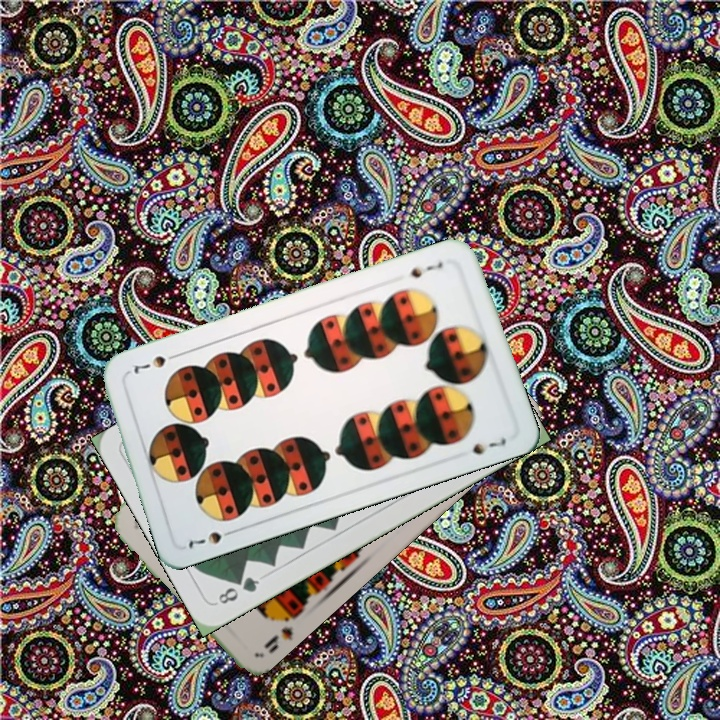G8: (214, 572, 262, 607)
S7: (184, 525, 239, 551), (406, 257, 446, 281)
S9: (260, 608, 302, 657)
